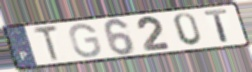0: (172, 12, 203, 47)
2: (136, 15, 173, 53)
6: (102, 17, 136, 57)
G: (68, 22, 103, 59)
T: (32, 24, 62, 63), (203, 8, 231, 44)
